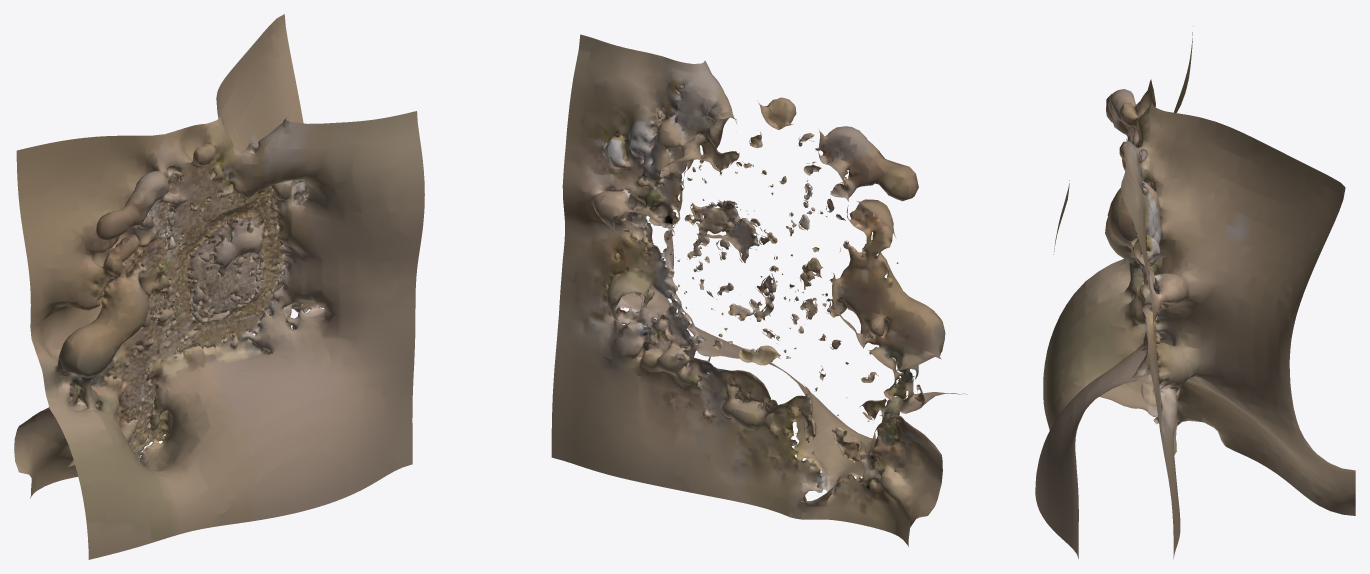
3 views of the same model, side by side, from view 1: azimuth 30°, elevation 25°; view 2: azimuth 150°, elevation 25°; view 3: azimuth 270°, elevation 25° (orthographic). The views are drawn at different scales.
Bounding box in the file's own units: 207 × 207 × 162.
